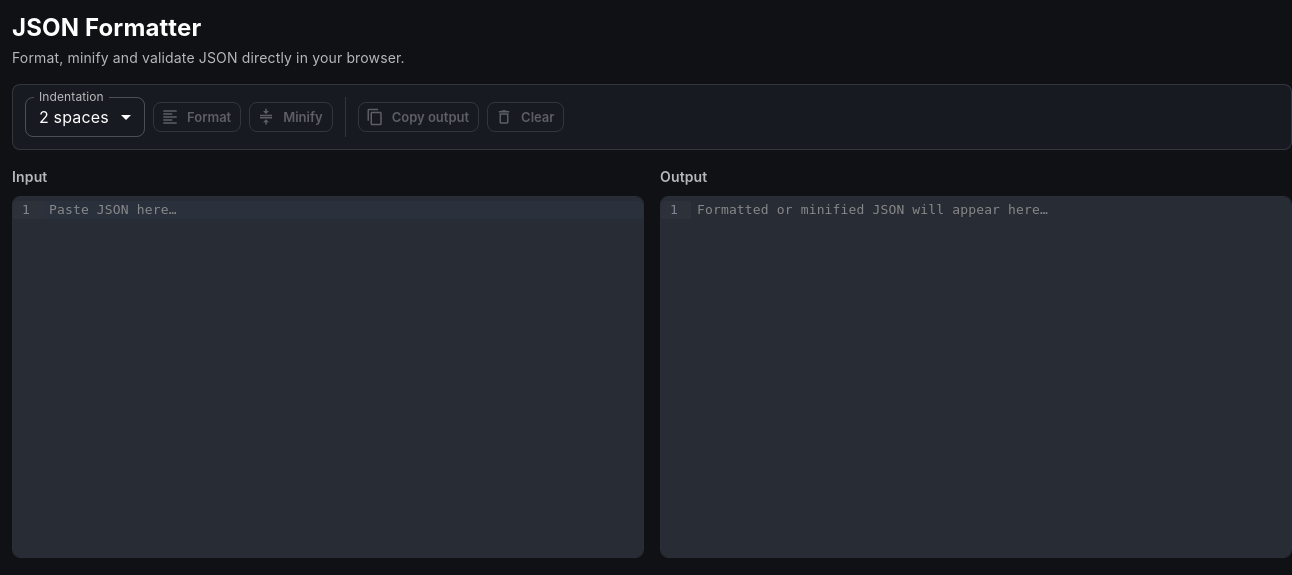
Test case: JsonFormatterPage › formats valid JSON when Format is clicked
This screenshot has width=1292, height=575.
Click the field labelled "Paste JSON here…" at (343, 210), box [43,197,643,223]
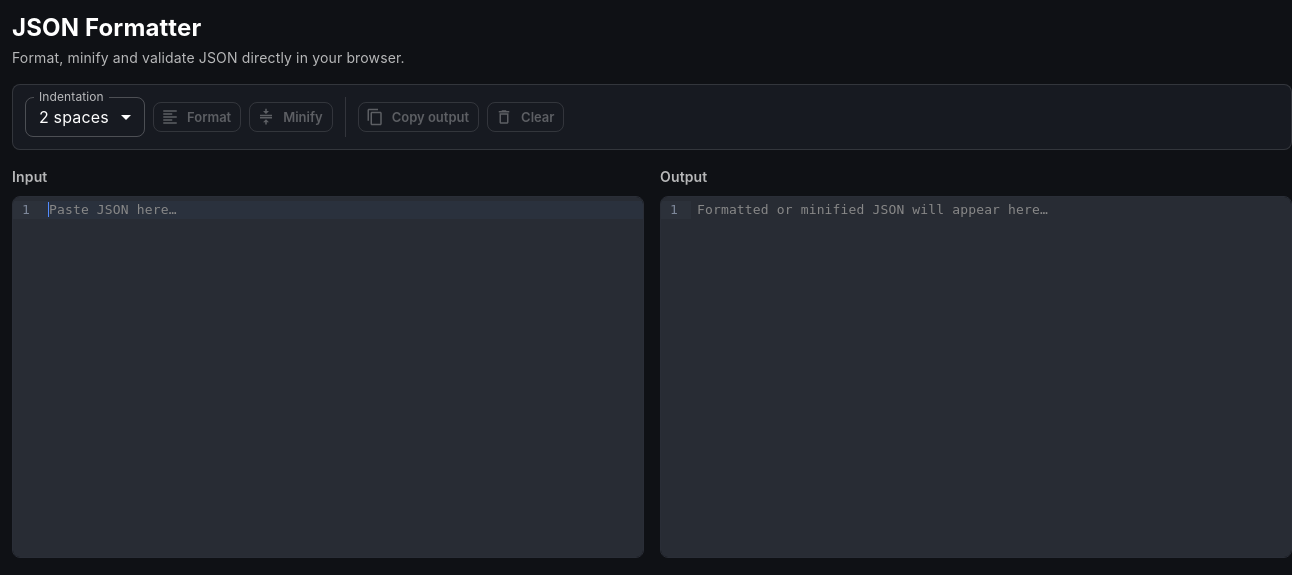
Type keys "{\"a\":1}"
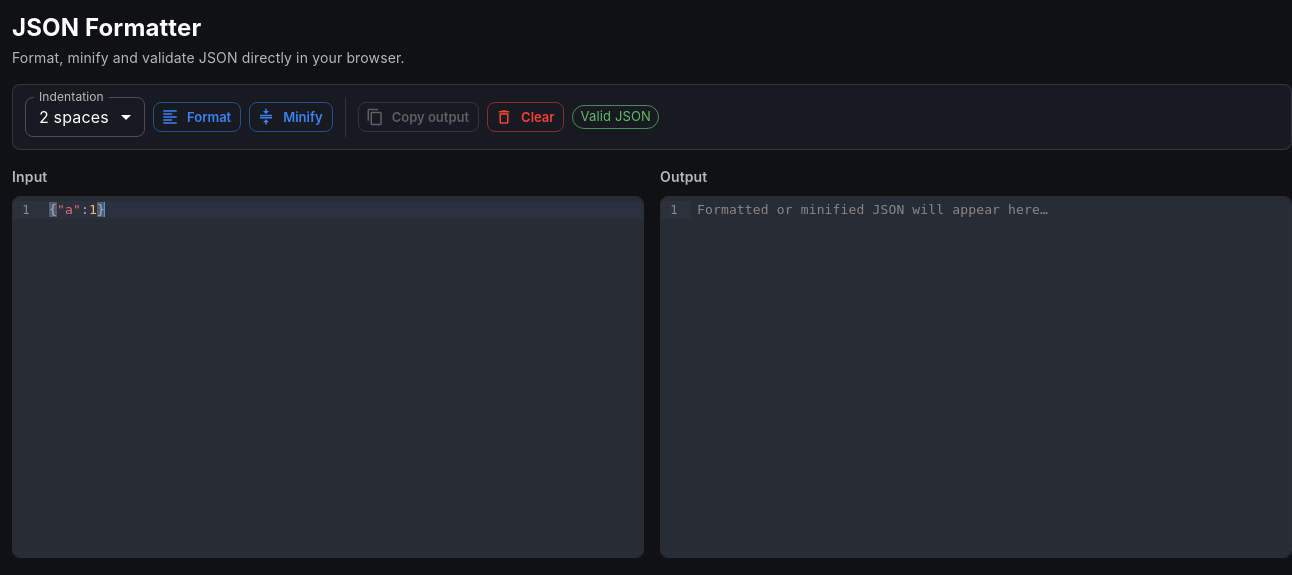
Click the button "Format" at (197, 117), box [153,102,241,132]
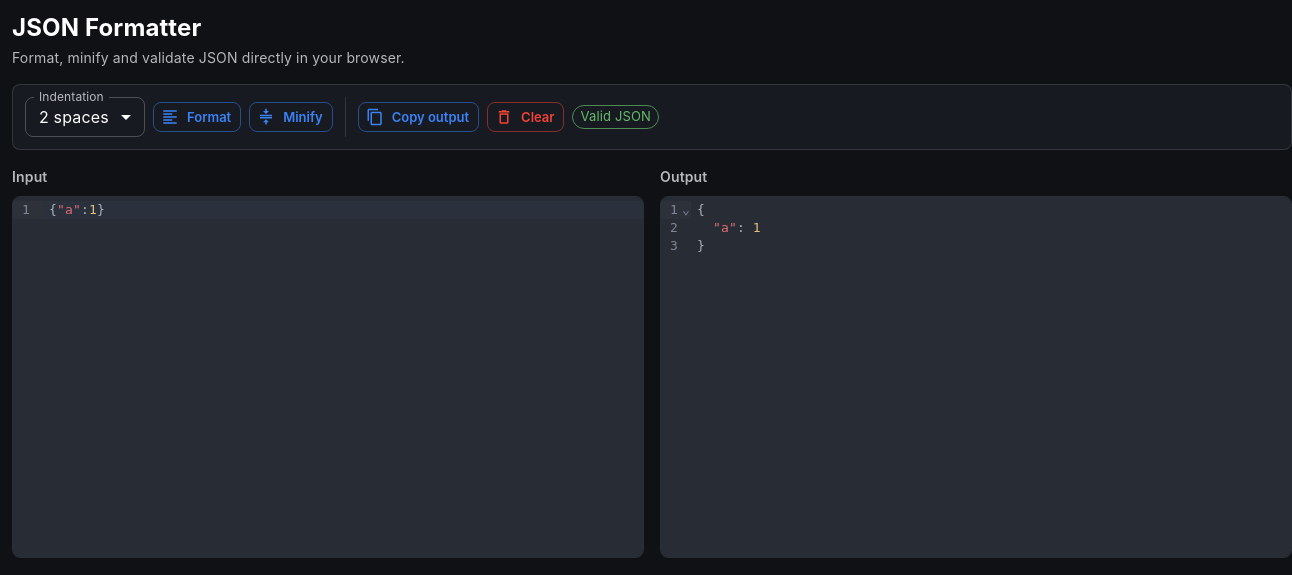
Now the text "Valid JSON" is shown, box [580,108,651,124]
Now the 2nd text box "\"a\"" is shown, box [713,220,737,235]
